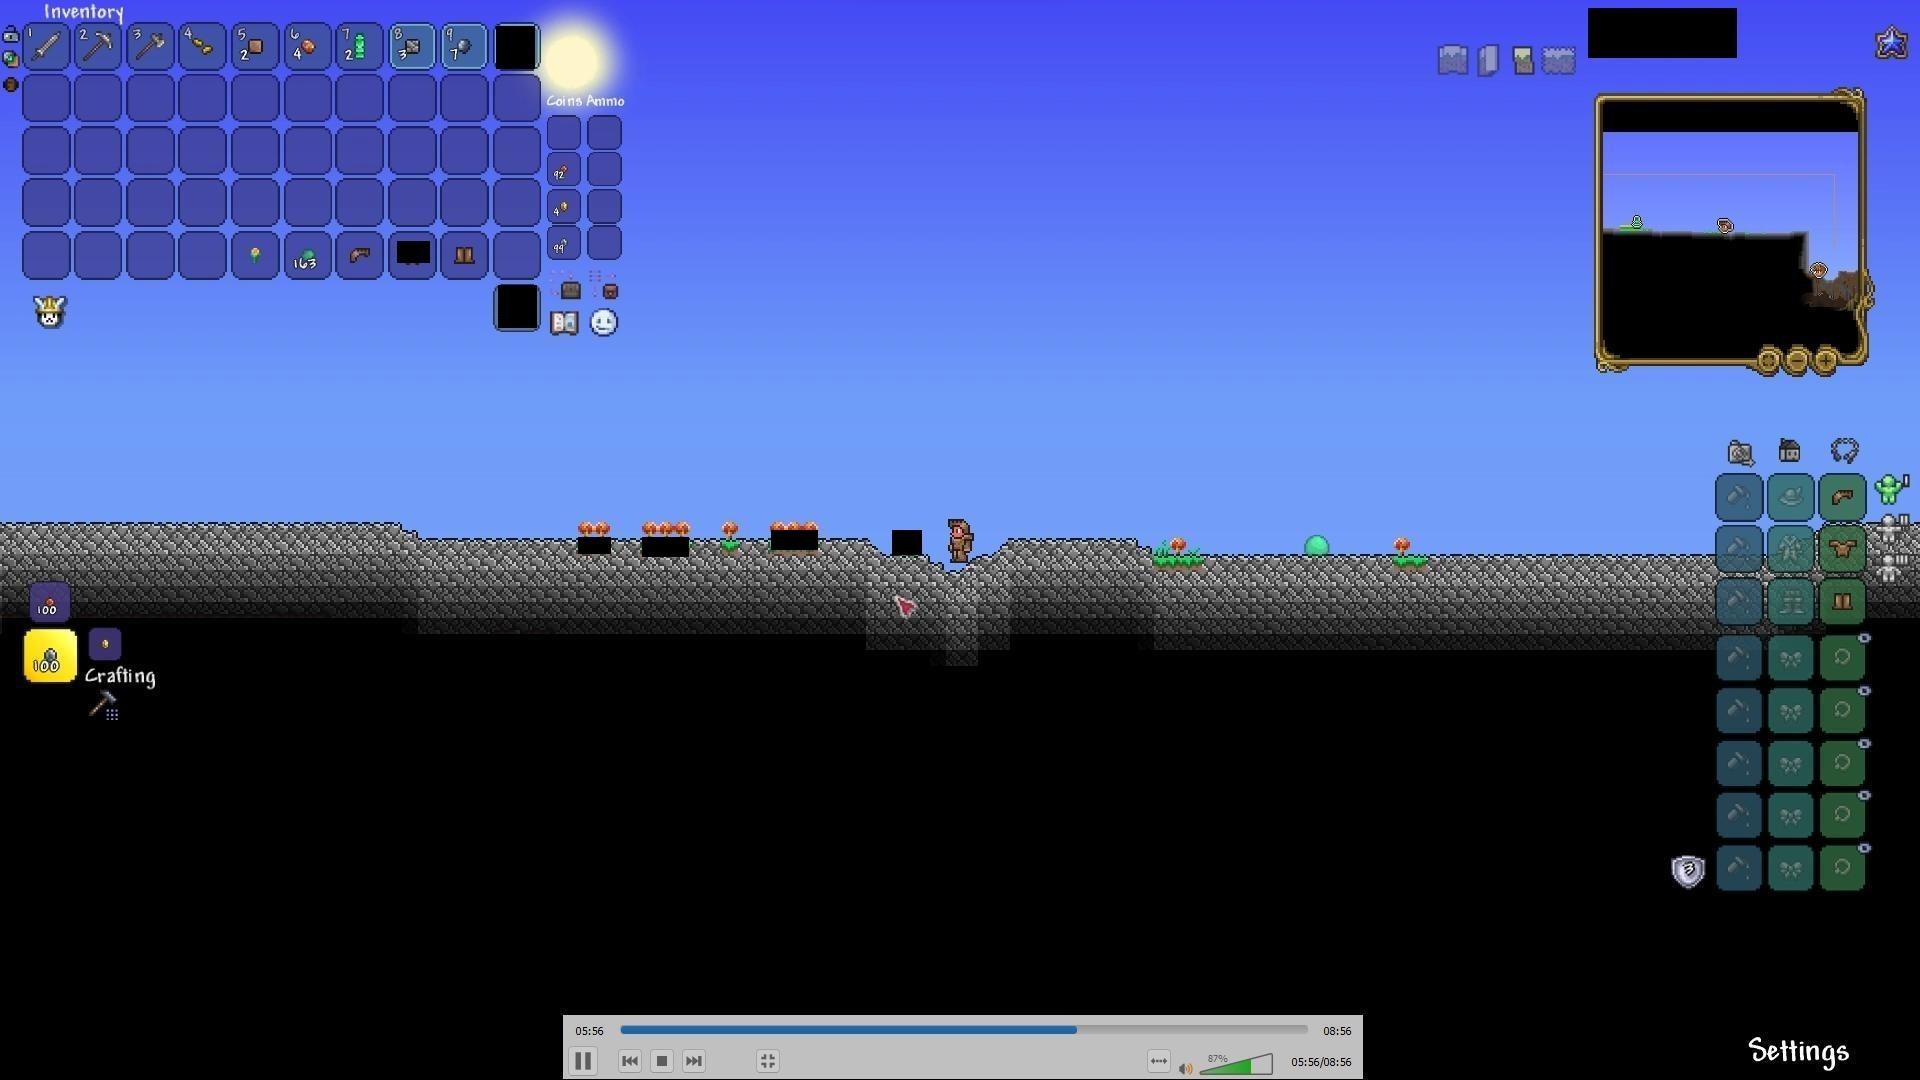breastplate: (1832, 538, 1859, 558)
dirt: (1154, 549, 1200, 567), (1394, 549, 1427, 566)
helmet: (345, 243, 375, 268), (1829, 484, 1857, 508)
legs: (1832, 588, 1857, 615), (452, 243, 477, 266)
slime: (1302, 531, 1331, 555)
